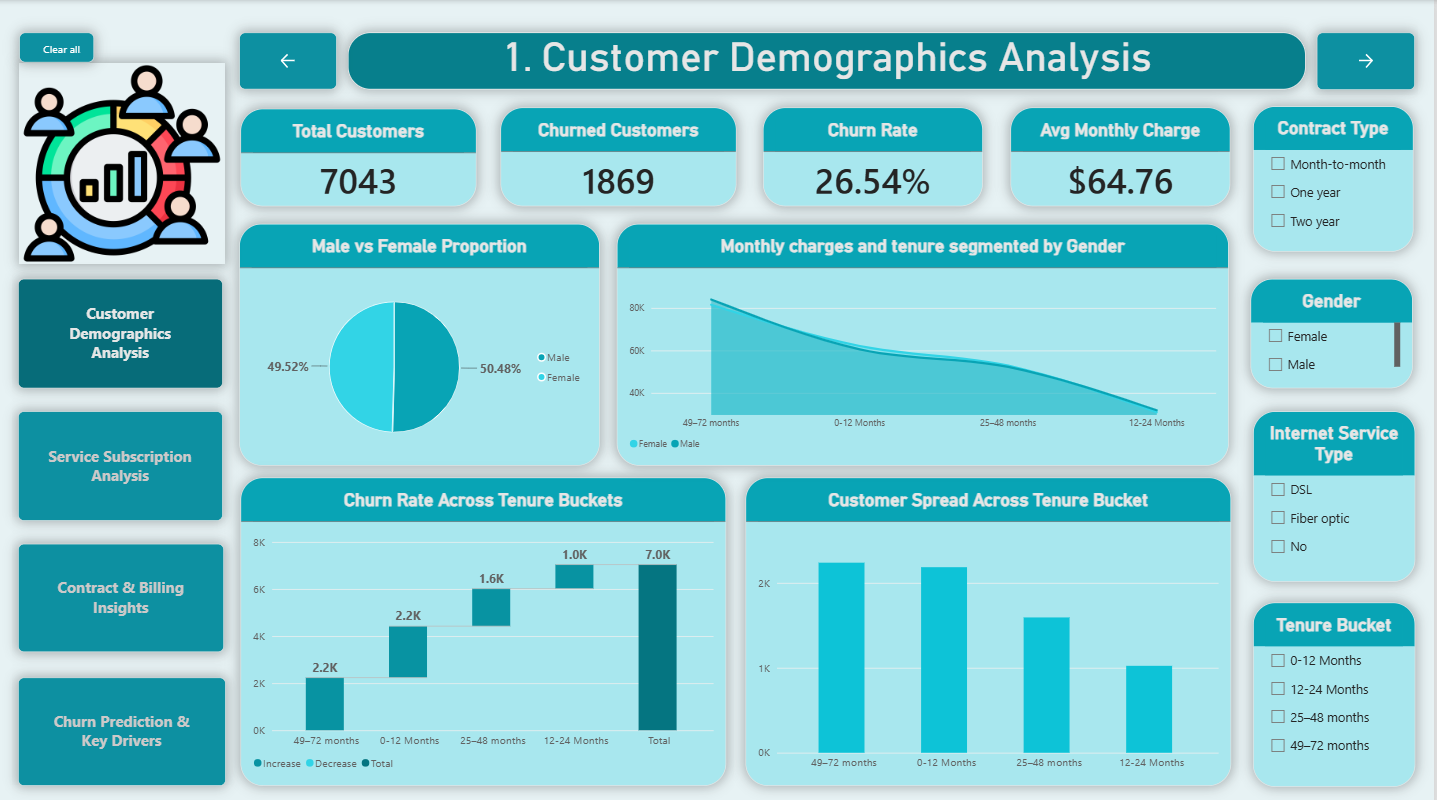

What the dashboard file says about the page in this screenshot:
{"tool":"powerbi","page":{"name":"Customer Demographics Analysis","canvas":[1920,1080],"ordinal":8},"visuals":[{"type":"textbox","title":"1. Customer Demographics Analysis","box":[467.4,42.8,1279.4,76.4],"z":0},{"type":"card","title":"Total Customers","fields":{"Values":["WA_Fn-UseC_-Telco-Customer-Churn.Total_Customers"]},"box":[323.9,145.3,315.6,130.2],"z":1000},{"type":"card","title":"Churned Customers","fields":{"Values":["WA_Fn-UseC_-Telco-Customer-Churn.Churned_Customers"]},"box":[671.2,143.6,315.6,131.9],"z":2000},{"type":"pieChart","title":"Male vs Female Proportion","fields":{"Category":["WA_Fn-UseC_-Telco-Customer-Churn.gender"],"Y":["WA_Fn-UseC_-Telco-Customer-Churn.Male_Female_Prop"]},"box":[321.8,298.4,481.8,323.6],"z":3000},{"type":"clusteredColumnChart","title":"Customer Spread Across Tenure Bucket","fields":{"Category":["WA_Fn-UseC_-Telco-Customer-Churn.Tenure_Bucket"],"Y":["CountNonNull(WA_Fn-UseC_-Telco-Customer-Churn.Tenure_Bucket)"]},"box":[997.8,638.2,649,411.7],"z":4000},{"type":"waterfallChart","title":"Churn Rate Across Tenure Buckets","fields":{"Category":["WA_Fn-UseC_-Telco-Customer-Churn.Tenure_Bucket"],"Y":["CountNonNull(WA_Fn-UseC_-Telco-Customer-Churn.Churn)"]},"box":[323.6,638.2,649,411.7],"z":5000},{"type":"areaChart","title":"Monthly charges and tenure segmented by Gender","fields":{"Category":["WA_Fn-UseC_-Telco-Customer-Churn.Tenure_Bucket"],"Series":["WA_Fn-UseC_-Telco-Customer-Churn.gender"],"Y":["Sum(WA_Fn-UseC_-Telco-Customer-Churn.MonthlyCharges)"]},"box":[827,298.4,817.8,323.4],"z":6000},{"type":"slicer","title":"Gender","fields":{"Values":["WA_Fn-UseC_-Telco-Customer-Churn.gender"]},"box":[1673.4,370.4,216.8,146.8],"z":7000},{"type":"slicer","title":"Contract Type","fields":{"Values":["WA_Fn-UseC_-Telco-Customer-Churn.Contract"]},"box":[1675.7,142.3,214.5,194.2],"z":8000},{"type":"card","title":"Churn Rate","fields":{"Values":["WA_Fn-UseC_-Telco-Customer-Churn.Churn_Rate"]},"box":[1021.9,143.6,293.9,131.9],"z":9000},{"type":"card","title":"Average Monthly Charge","fields":{"Values":["WA_Fn-UseC_-Telco-Customer-Churn.Average_monthly_charges"]},"box":[1352.5,143.6,293.9,131.9],"z":10000},{"type":"slicer","title":"Internet Service Type","fields":{"Values":["WA_Fn-UseC_-Telco-Customer-Churn.InternetService"]},"box":[1675.7,548.8,216.8,228.1],"z":11000},{"type":"slicer","title":"Tenure Bucket","fields":{"Values":["WA_Fn-UseC_-Telco-Customer-Churn.Tenure_Bucket"]},"box":[1676,804.5,216.8,246.2],"z":12000},{"type":"image","box":[27.9,83.6,275.1,269.5],"z":13000},{"type":"pageNavigator","box":[27.1,548.8,273.3,146.8],"z":14000},{"type":"pageNavigator","box":[27.1,727.2,275.5,144.5],"z":15000},{"type":"pageNavigator","box":[27.1,905.6,277.8,144.5],"z":16000},{"type":"pageNavigator","title":"Customer Demographics Analysis","box":[27.1,372.6,273.3,146.8],"z":17000},{"type":"actionButton","box":[322.2,42.8,130.4,76.4],"z":18000},{"type":"actionButton","box":[1761.5,42.9,131,76.8],"z":19000},{"type":"actionButton","box":[27.9,42.8,100,40],"z":20000}]}

Visuals, with their boxes in screenshot pixels (x1, y1, x2, y2), scaled from the page's 1920x1080 canvas onto the 1437x800 screenshot:
"1. Customer Demographics Analysis" textbox: box(350, 32, 1307, 88)
"Total Customers" card: box(242, 108, 479, 204)
"Churned Customers" card: box(502, 106, 739, 204)
"Male vs Female Proportion" pieChart: box(241, 221, 601, 461)
"Customer Spread Across Tenure Bucket" clusteredColumnChart: box(747, 473, 1233, 778)
"Churn Rate Across Tenure Buckets" waterfallChart: box(242, 473, 728, 778)
"Monthly charges and tenure segmented by Gender" areaChart: box(619, 221, 1231, 461)
"Gender" slicer: box(1252, 274, 1415, 383)
"Contract Type" slicer: box(1254, 105, 1415, 249)
"Churn Rate" card: box(765, 106, 985, 204)
"Average Monthly Charge" card: box(1012, 106, 1232, 204)
"Internet Service Type" slicer: box(1254, 407, 1416, 575)
"Tenure Bucket" slicer: box(1254, 596, 1417, 778)
image: box(21, 62, 227, 262)
pageNavigator: box(20, 407, 225, 515)
pageNavigator: box(20, 539, 226, 646)
pageNavigator: box(20, 671, 228, 778)
"Customer Demographics Analysis" pageNavigator: box(20, 276, 225, 385)
actionButton: box(241, 32, 339, 88)
actionButton: box(1318, 32, 1416, 89)
actionButton: box(21, 32, 96, 61)
